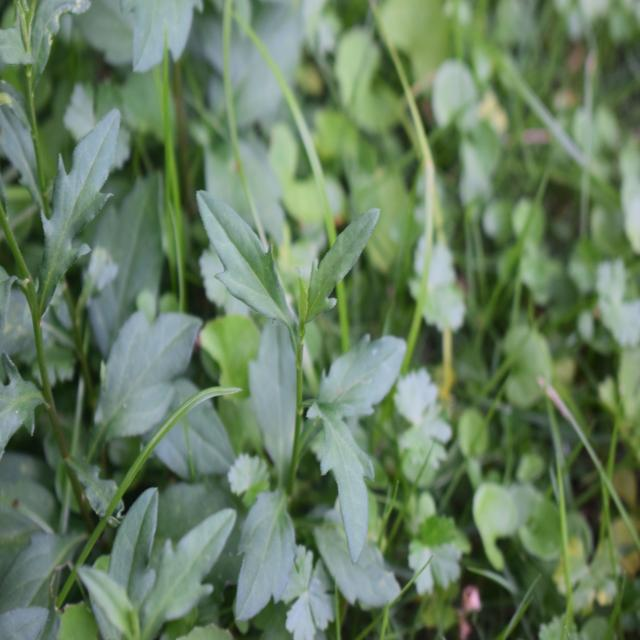Indian aster: (169, 208, 393, 550), (0, 114, 157, 484)
